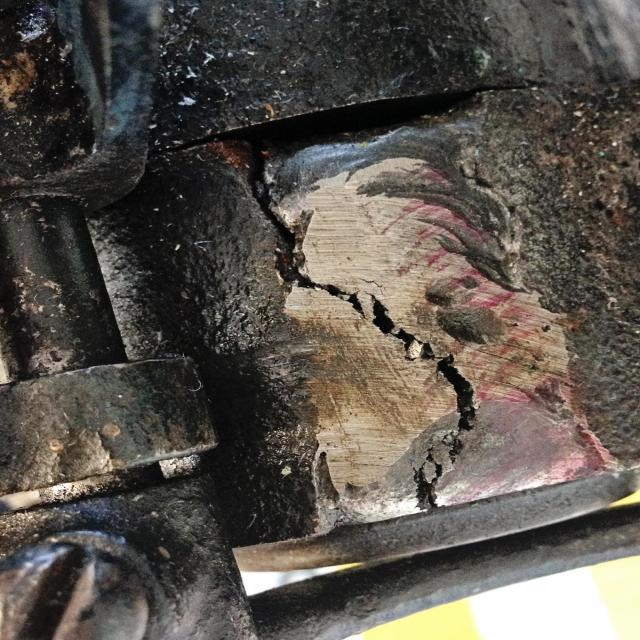Crack: (238, 130, 489, 521)
